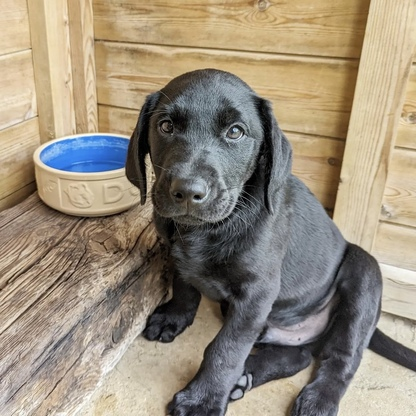labrado: (122, 65, 387, 416)
